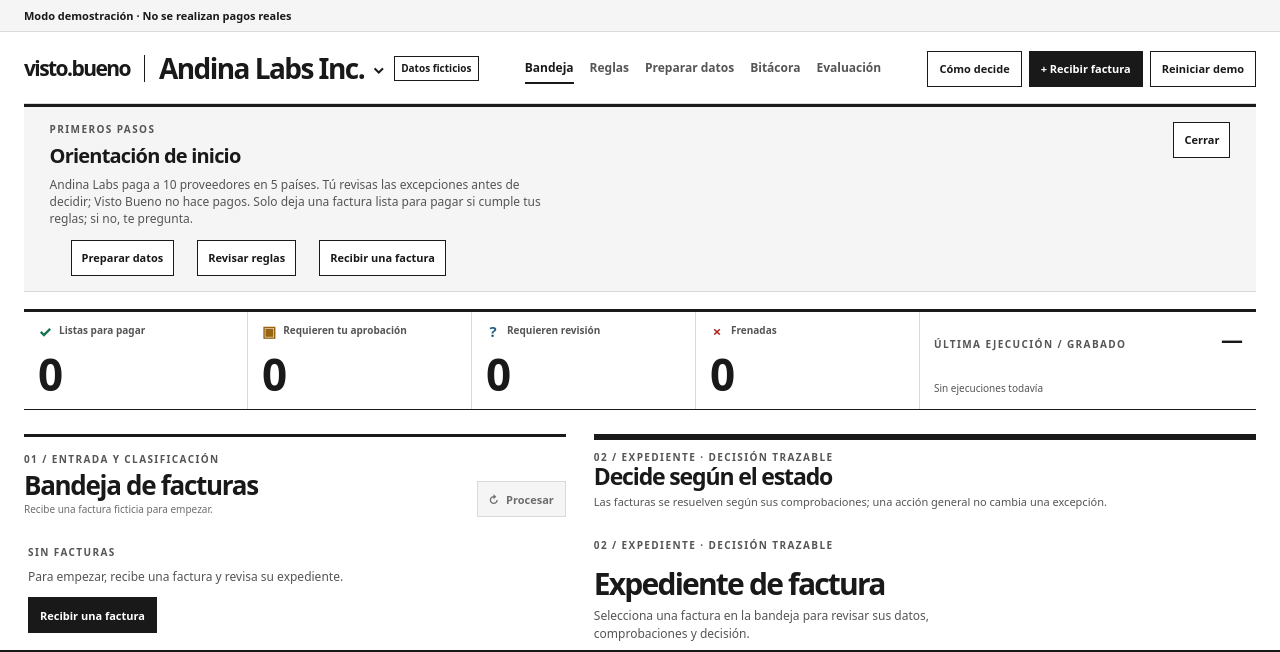
Scenario: T11 app integration › mounts the Reglas section using its rules adapter
This screenshot has width=1280, height=652.
Check: the heading "Andina Labs Inc. ⌄" is shown, box [159, 46, 385, 90]
Click the link "Reglas" at [609, 67], box [590, 59, 629, 76]
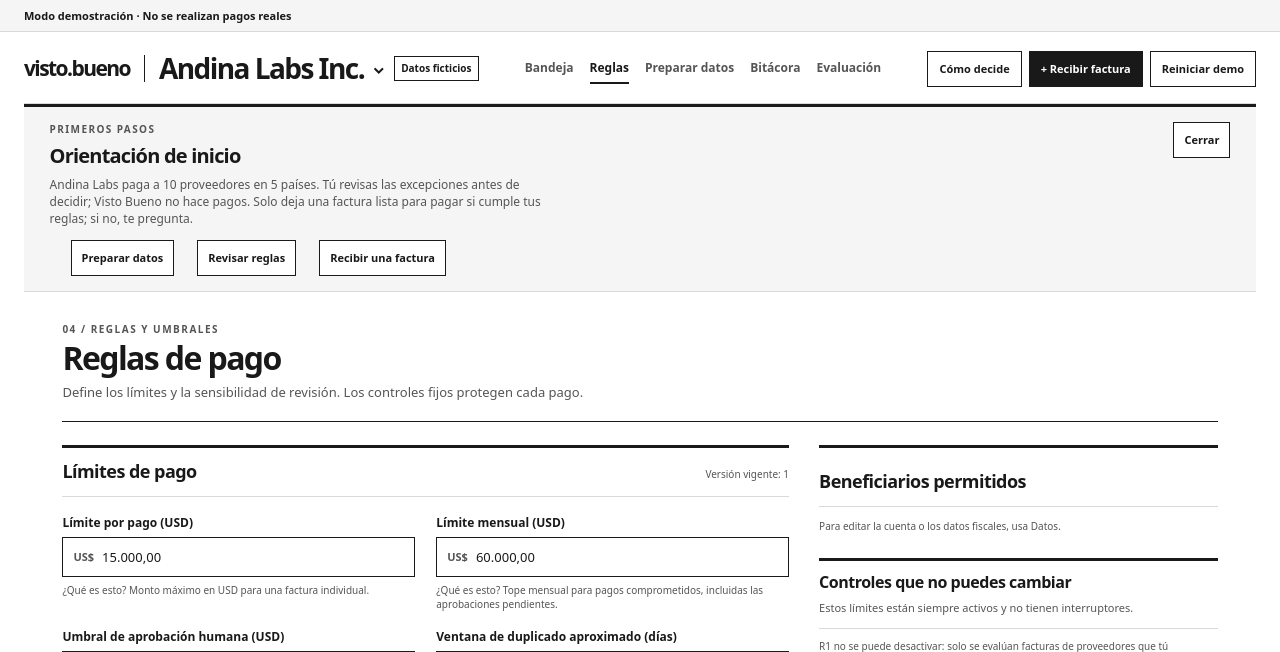
Check: the heading "Reglas de pago" is shown, box [62, 336, 281, 379]
Check: the text "Versión vigente: 1" is shown, box [705, 467, 789, 481]
